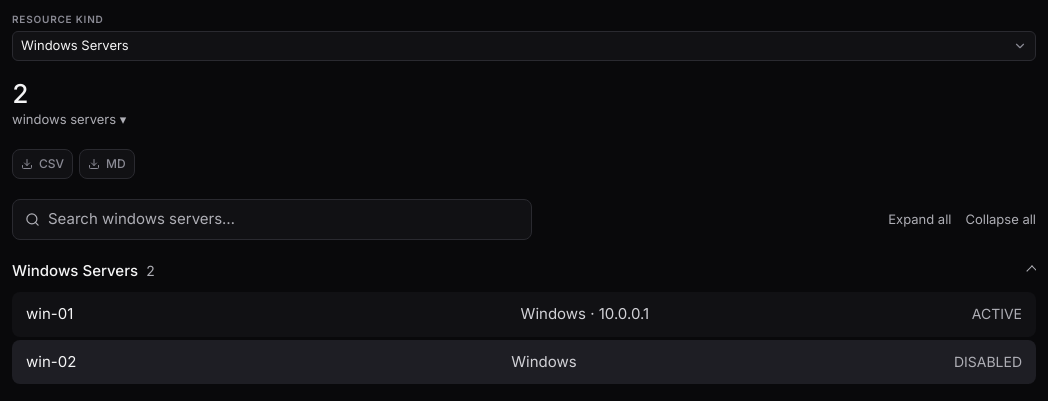
it: ResourcesTab › names its search box and searches fuzzily
Step 1. Type "wni-02" into the search field labelled "Search windows servers" → (284, 219), box [48,208,519,230]
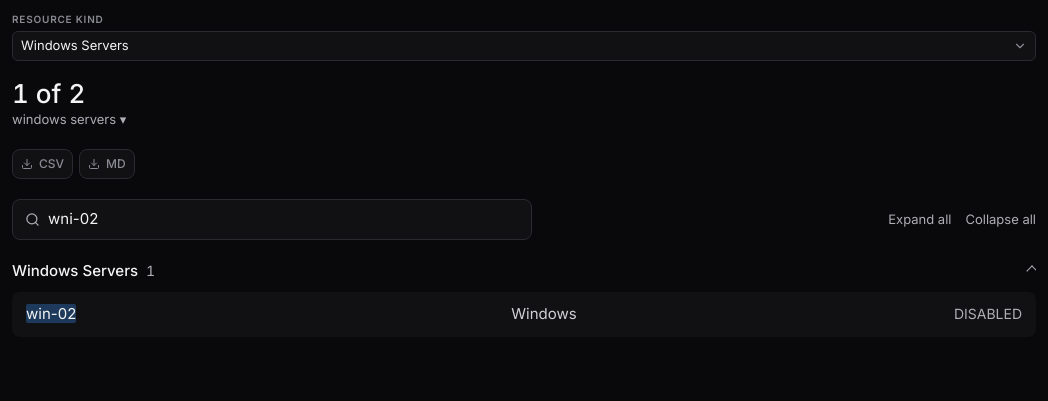
Expected: the button "win-02 Windows DISABLED" is shown, [12,292,1036,336]
Step 2. Replace the text in the search field named "Search windows servers" with "qqqqzzzz" → (284, 219), box [48,208,519,230]
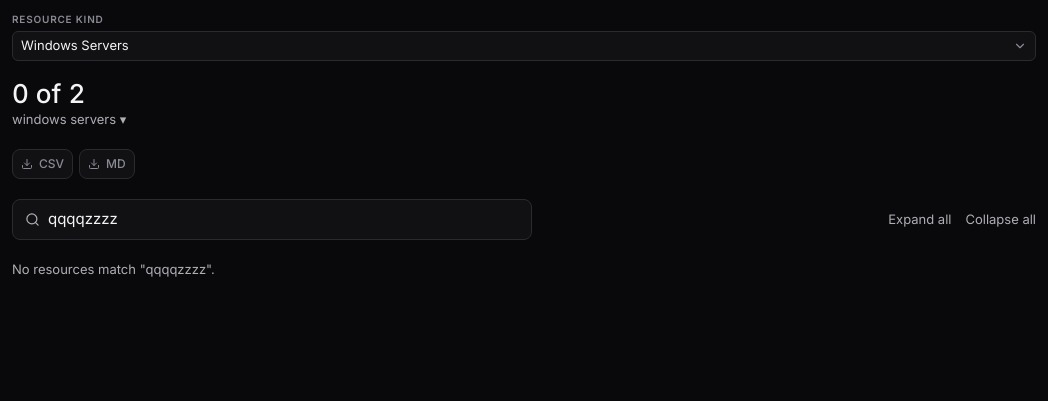
Expected: the button "win-0" is gone
Expected: the text "No resources match \"qqqqzzzz\"." is shown, [12,260,215,276]
